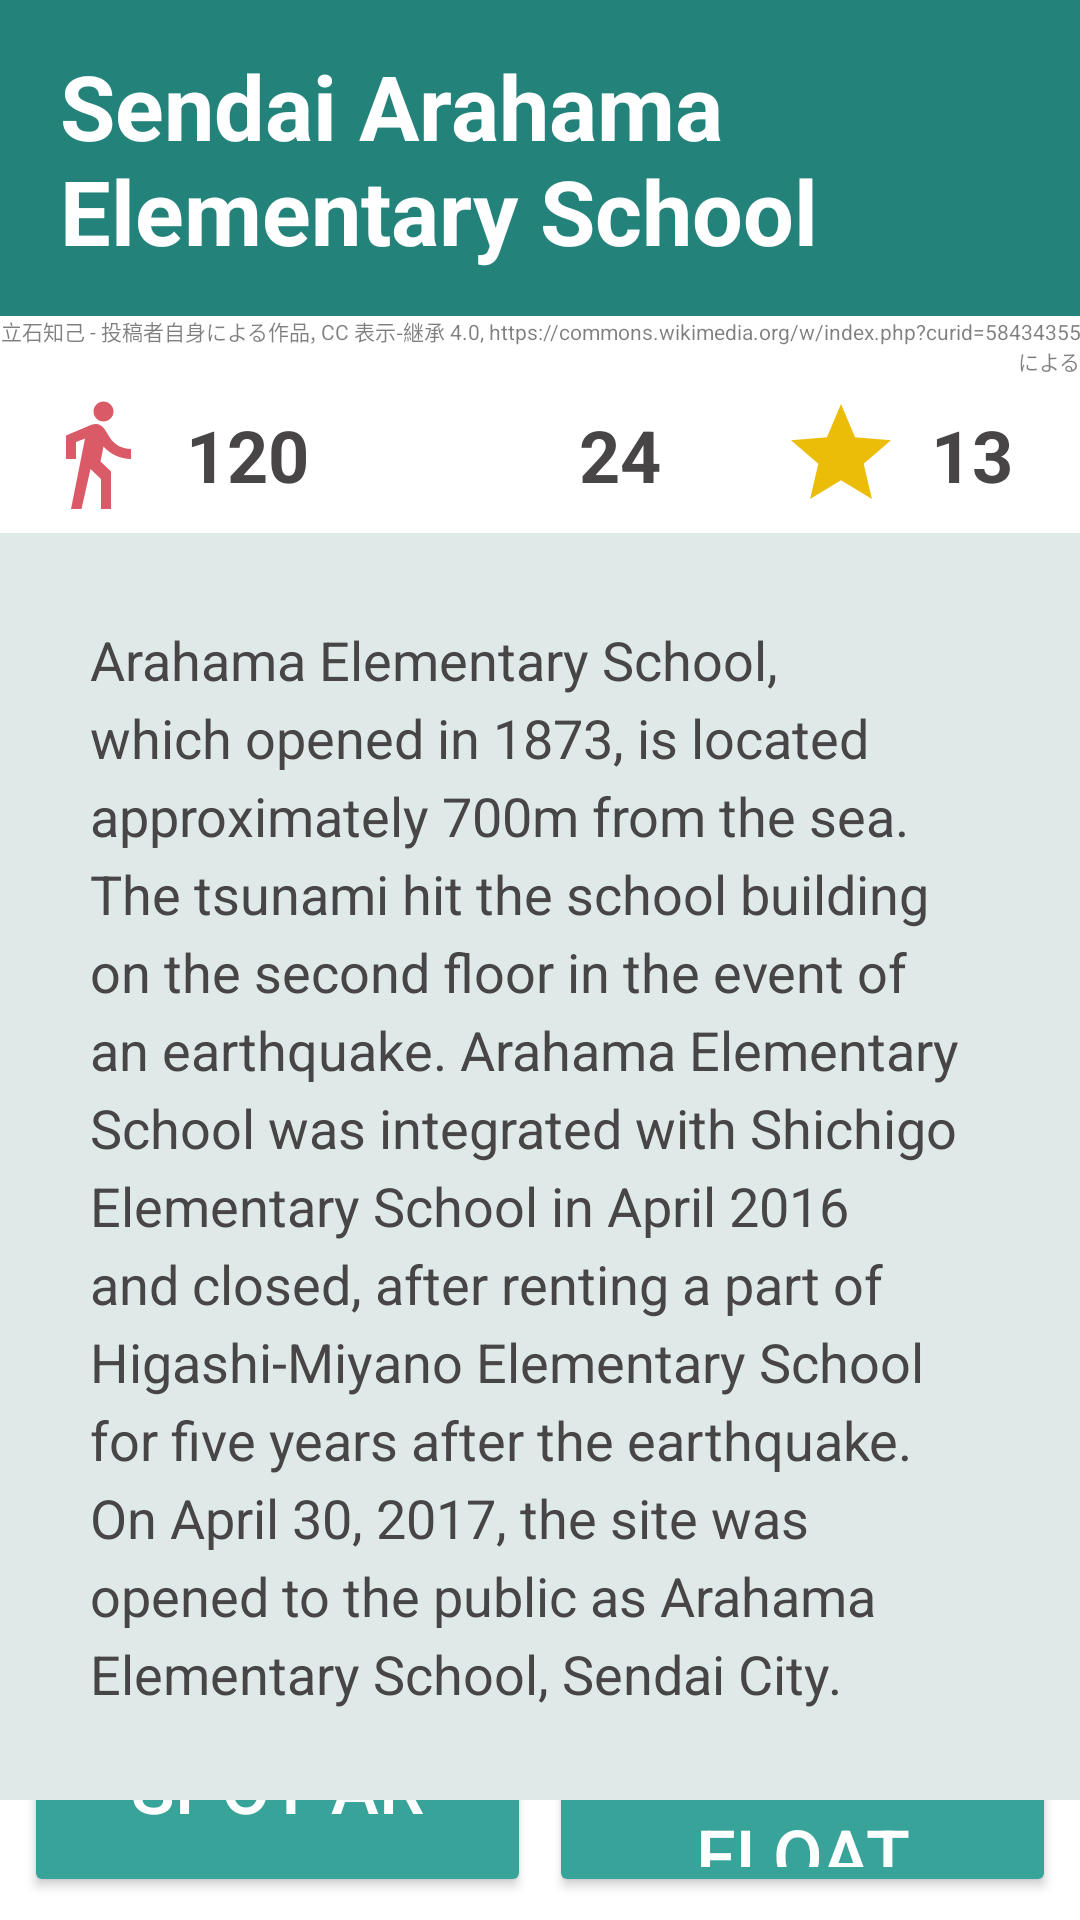

Named icons in this screenshot (1080*1920) and their bounding boxes, (x1=x1, y1=y1, x2=x2, y2=y2):
directions walk: (x1=66, y1=401, x2=131, y2=509)
star: (x1=791, y1=404, x2=891, y2=499)
